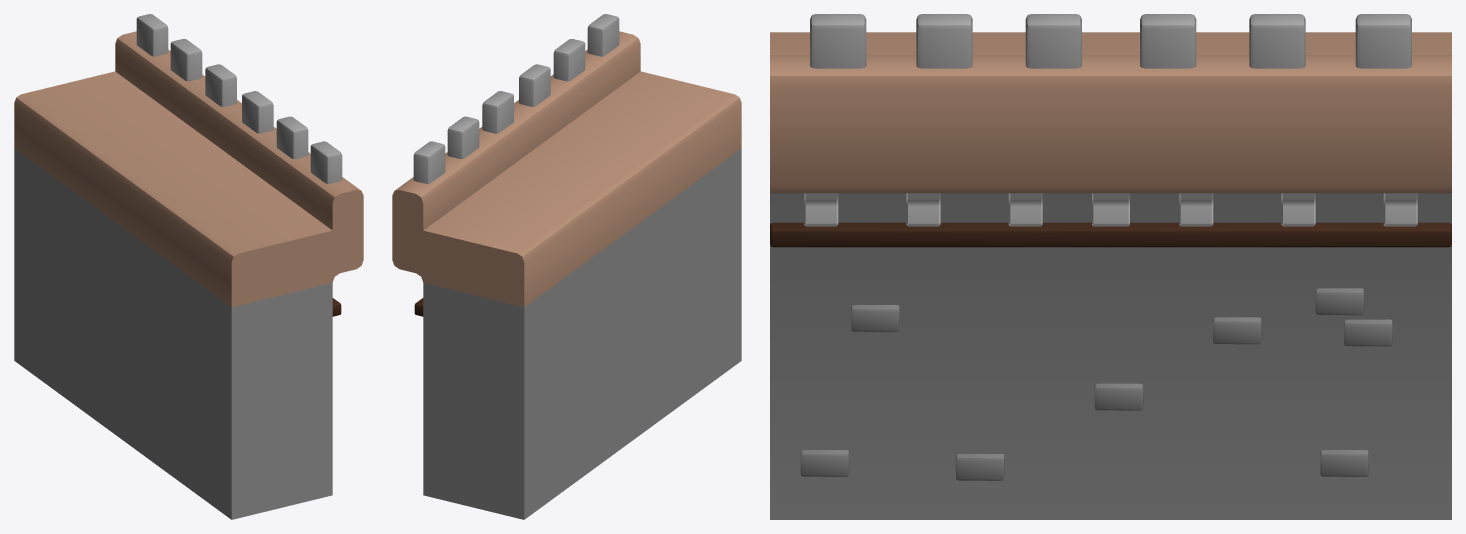
File: Wall_1.fbx
3 views of the same model, side by side, from view 1: azimuth 30°, elevation 25°; view 2: azimuth 150°, elevation 25°; view 3: azimuth 270°, elevation 25° (orthographic). The views are drawn at different scales.
Visible parts, largest first — view 1: Wall_1; view 2: Wall_1; view 3: Wall_1.
Boxes of the visible parts, x1,y1,x2,y2 form: Wall_1: [14, 14, 363, 519]; Wall_1: [392, 14, 741, 519]; Wall_1: [770, 14, 1451, 519].
Size of the model in its own units: 1.04 by 2.48 by 2.98.
